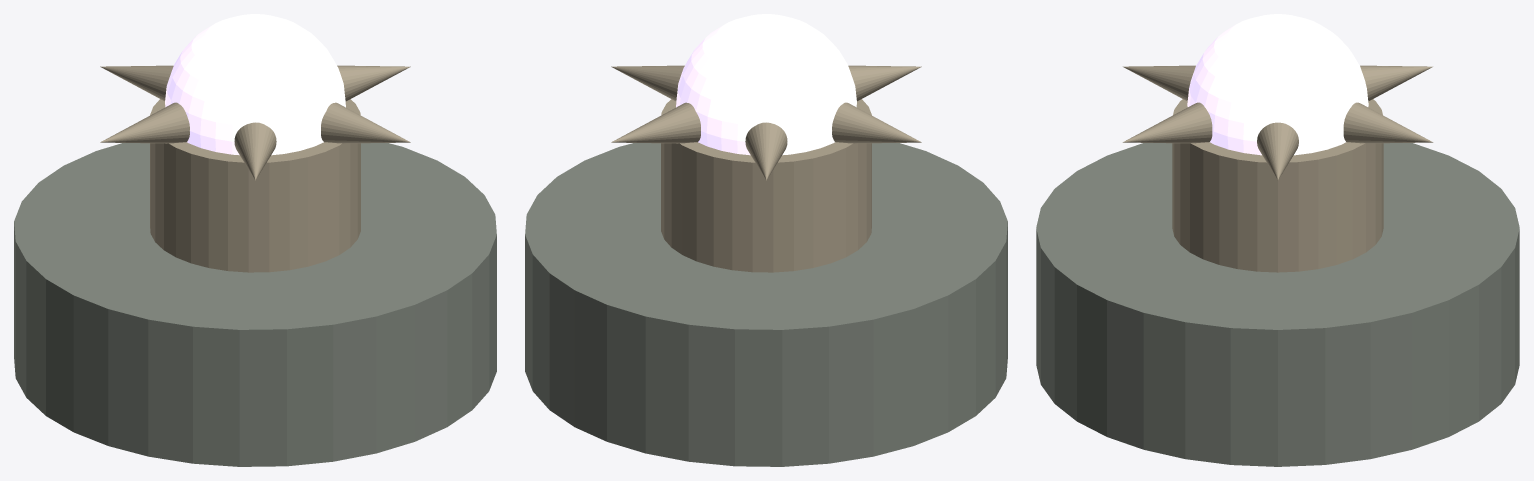
Rendered from tangle_emitter.glb.
3 renders of one model, left to right at view 1: azimuth 30°, elevation 25°; view 2: azimuth 150°, elevation 25°; view 3: azimuth 270°, elevation 25°, orthographic.
Visible parts, largest first — view 1: Cylinder, Cylinder.001, Sphere, Cone.005, Cone.003, Cone.004, Cone, Cone.002; view 2: Cylinder, Cylinder.001, Sphere, Cone.001, Cone.003, Cone.002, Cone, Cone.004; view 3: Cylinder, Cylinder.001, Sphere, Cone.001, Cone.005, Cone, Cone.002, Cone.004.
Boxes of the visible parts, bbox=[...] form: Cylinder: bbox=[14, 143, 496, 466]; Cylinder.001: bbox=[150, 99, 360, 272]; Sphere: bbox=[165, 14, 345, 155]; Cone.005: bbox=[321, 102, 410, 143]; Cone.003: bbox=[100, 102, 189, 143]; Cone.004: bbox=[234, 122, 276, 180]; Cone: bbox=[337, 65, 410, 101]; Cone.002: bbox=[100, 65, 173, 101]; Cylinder: bbox=[525, 143, 1007, 466]; Cylinder.001: bbox=[661, 99, 871, 272]; Sphere: bbox=[676, 14, 856, 155]; Cone.001: bbox=[611, 102, 700, 143]; Cone.003: bbox=[832, 102, 921, 143]; Cone.002: bbox=[745, 122, 787, 180]; Cone: bbox=[611, 65, 684, 101]; Cone.004: bbox=[848, 65, 921, 101]; Cylinder: bbox=[1036, 143, 1519, 466]; Cylinder.001: bbox=[1172, 99, 1383, 272]; Sphere: bbox=[1187, 14, 1368, 155]; Cone.001: bbox=[1343, 102, 1433, 143]; Cone.005: bbox=[1122, 102, 1212, 143]; Cone: bbox=[1257, 122, 1298, 179]; Cone.002: bbox=[1360, 65, 1432, 101]; Cone.004: bbox=[1123, 65, 1195, 101].
Bounding box in the file's own units: 1.6 × 1.25 × 1.6.
